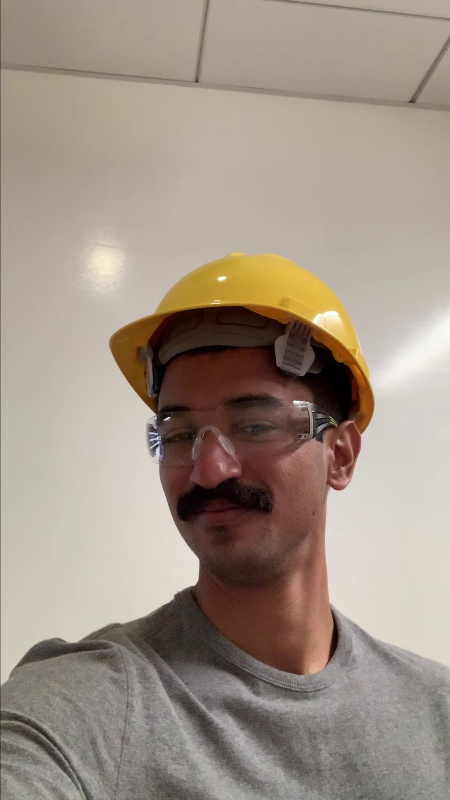glasses: (138, 404, 316, 451)
helmet: (104, 251, 369, 356)
